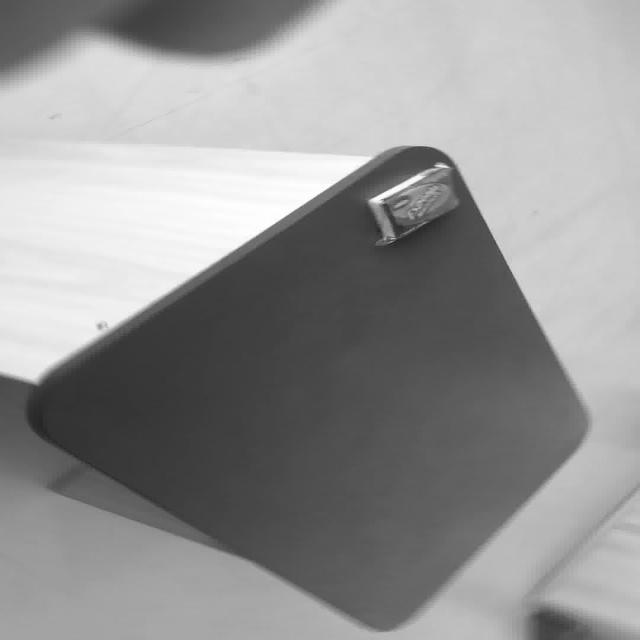sponge: (21, 140, 592, 631), (365, 164, 460, 246)
